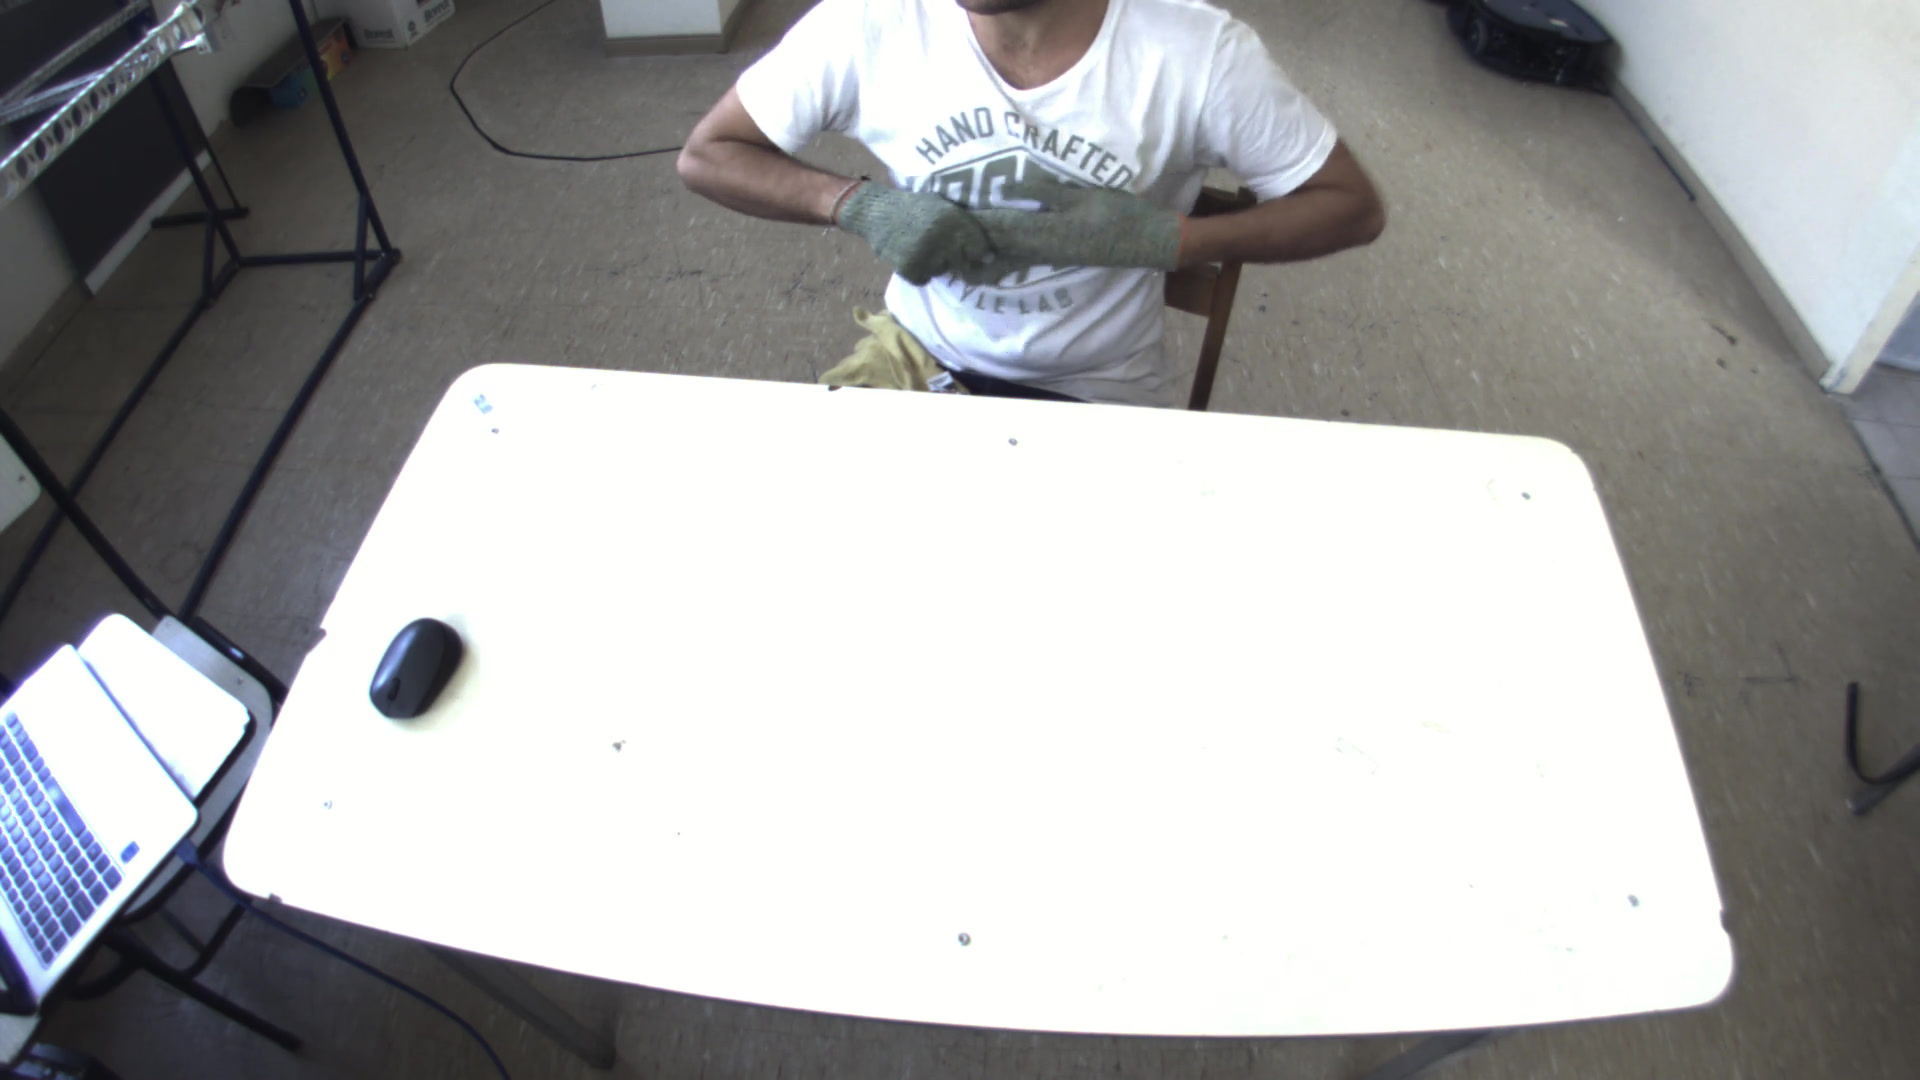hand: (825, 175, 1010, 286), (1005, 173, 1184, 277)
